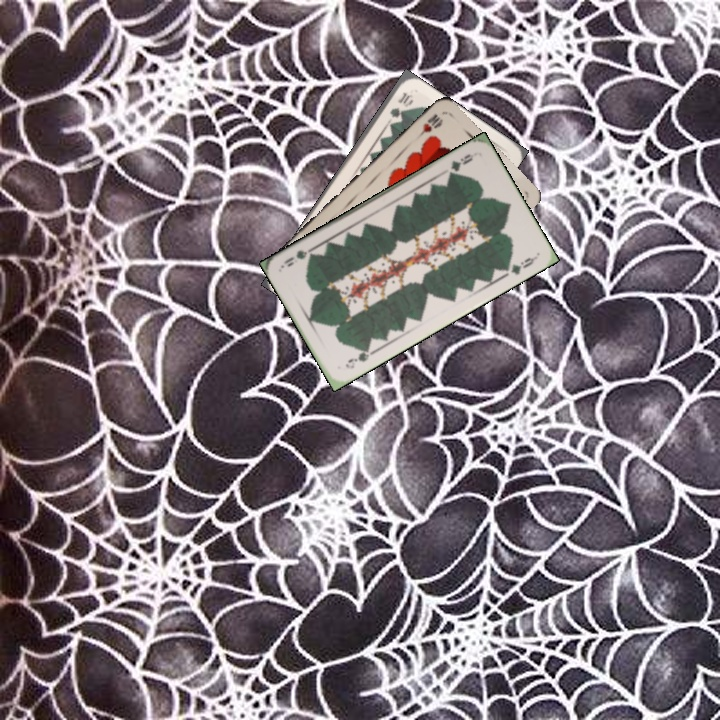G10: (386, 88, 415, 121)
G9: (341, 343, 376, 372), (444, 150, 476, 179)
H10: (412, 110, 444, 142)
